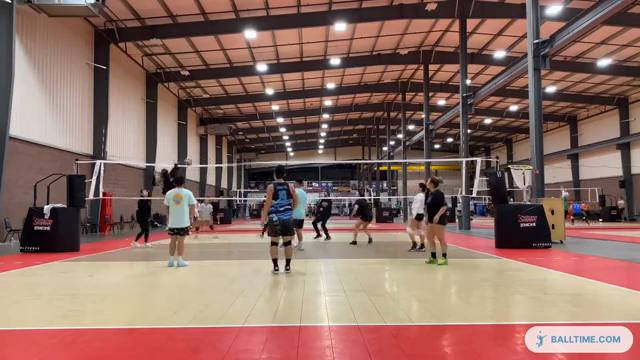Player: (261, 165, 297, 273), (164, 175, 196, 266), (426, 177, 447, 264), (407, 183, 426, 251), (350, 190, 372, 244), (132, 189, 150, 246), (293, 179, 306, 250), (312, 192, 331, 240), (193, 200, 213, 233), (160, 163, 179, 194), (161, 164, 178, 194), (260, 222, 267, 237)
ball: (185, 156, 195, 167)
